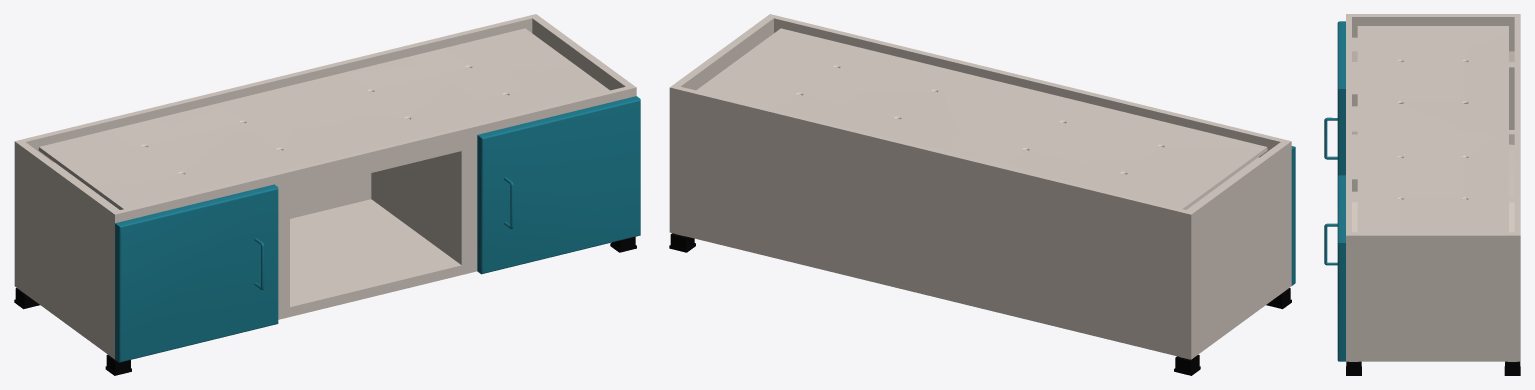
Rendered from Deluxe_double_door_attender_cot1-optimized.glb.
3 renders of one model, left to right at view 1: azimuth 30°, elevation 25°; view 2: azimuth 150°, elevation 25°; view 3: azimuth 270°, elevation 25°, orthographic. The views are drawn at different scales.
Visible parts, largest first — view 1: cabin, Door; view 2: cabin, Door; view 3: cabin, Door.
Part boxes in pixels (left/top/right/bottom): cabin: left=14, top=14, right=636, bottom=375; Door: left=115, top=96, right=640, bottom=362; cabin: left=669, top=14, right=1291, bottom=375; Door: left=1291, top=146, right=1295, bottom=285; cabin: left=1346, top=14, right=1520, bottom=375; Door: left=1324, top=21, right=1345, bottom=361.
Bounding box in the file's own units: 3.66 × 1.08 × 1.37.
